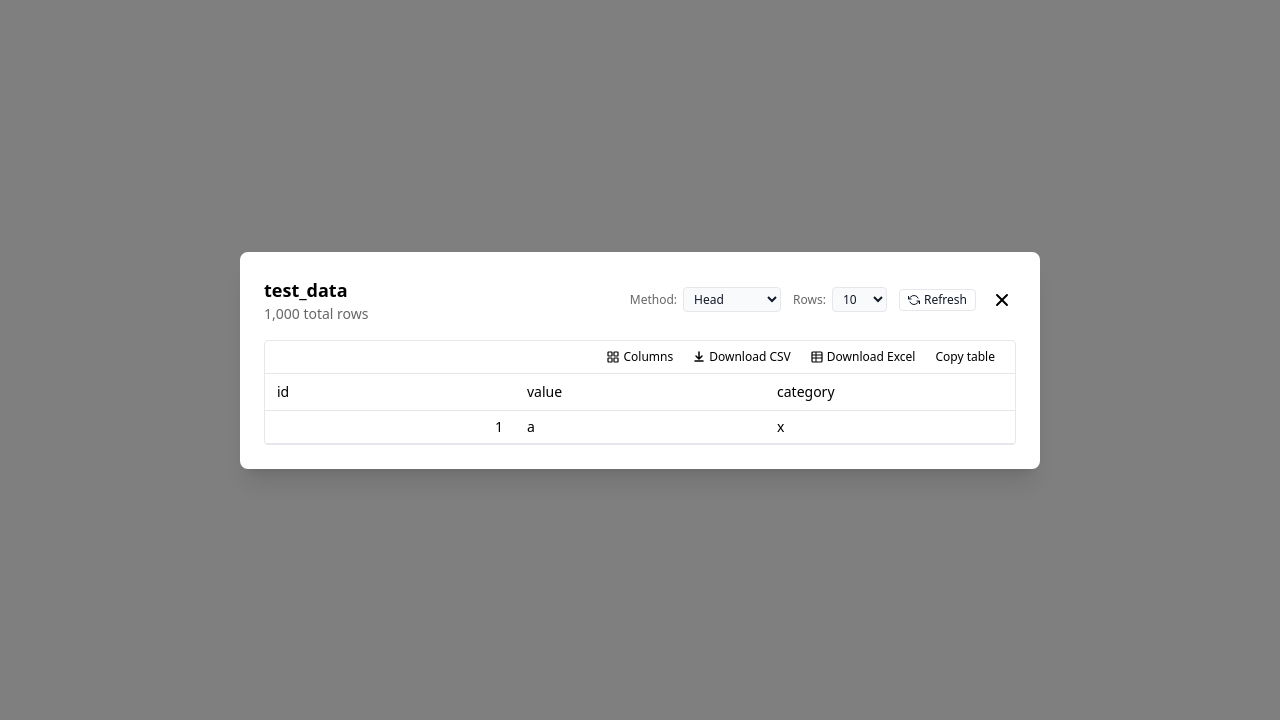
Test case: PreviewModal sampling controls › shows percentage input when percentage is selected
The image size is (1280, 720).
Step 1. Select "Percentage" in the dropdown with test id "preview-sample-method" → point(732, 300), box [683,287,781,312]
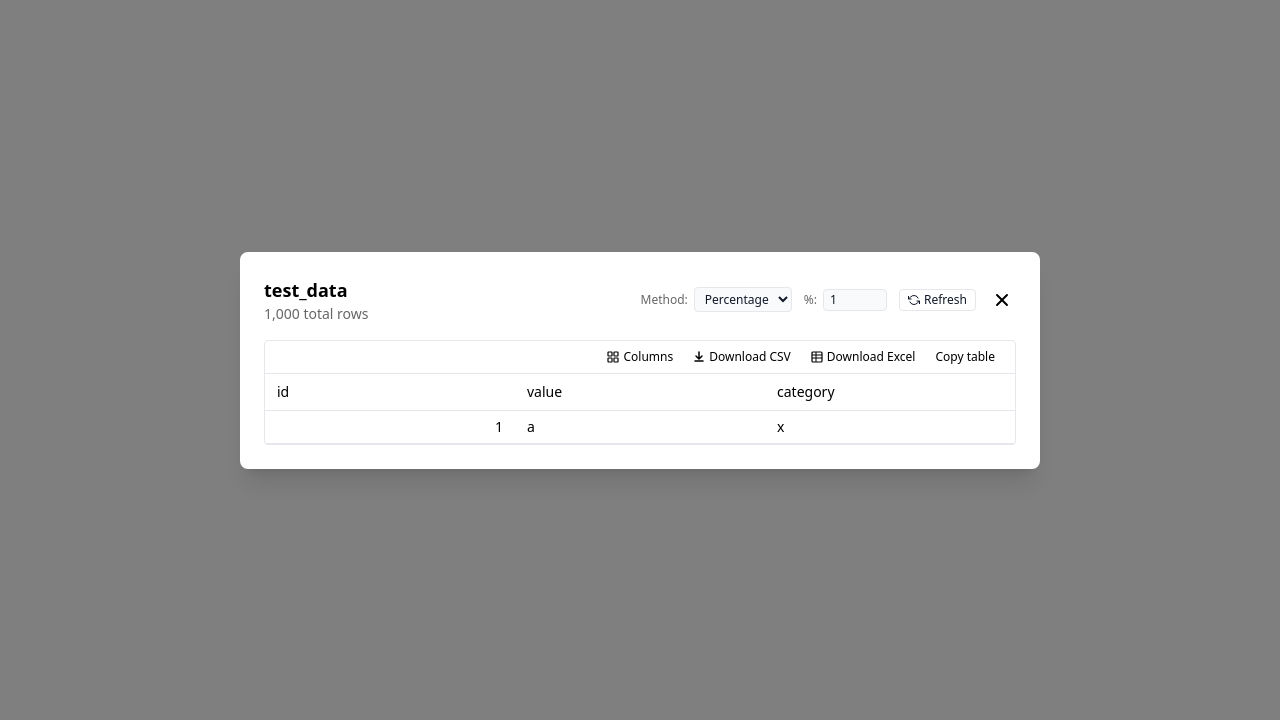
Result: the number field with test id "preview-sample-percentage" is shown at [823,288,887,310]
